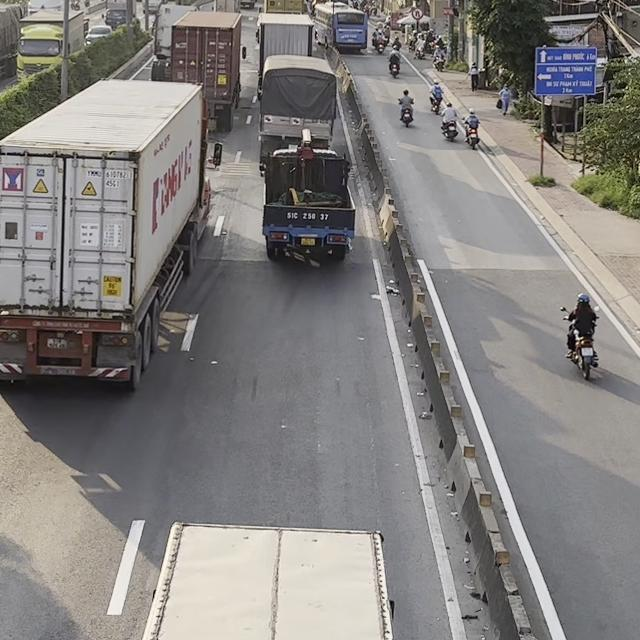bus: (312, 0, 368, 53)
motorcycle: (560, 306, 598, 381), (462, 117, 480, 149), (397, 98, 415, 127), (440, 114, 458, 141), (387, 55, 400, 77)
truck: (0, 78, 223, 391), (260, 130, 356, 266), (170, 10, 247, 132), (257, 54, 338, 164), (255, 11, 315, 101), (150, 2, 197, 80)
